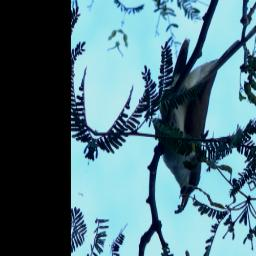Cuckoo: (132, 0, 256, 229)
